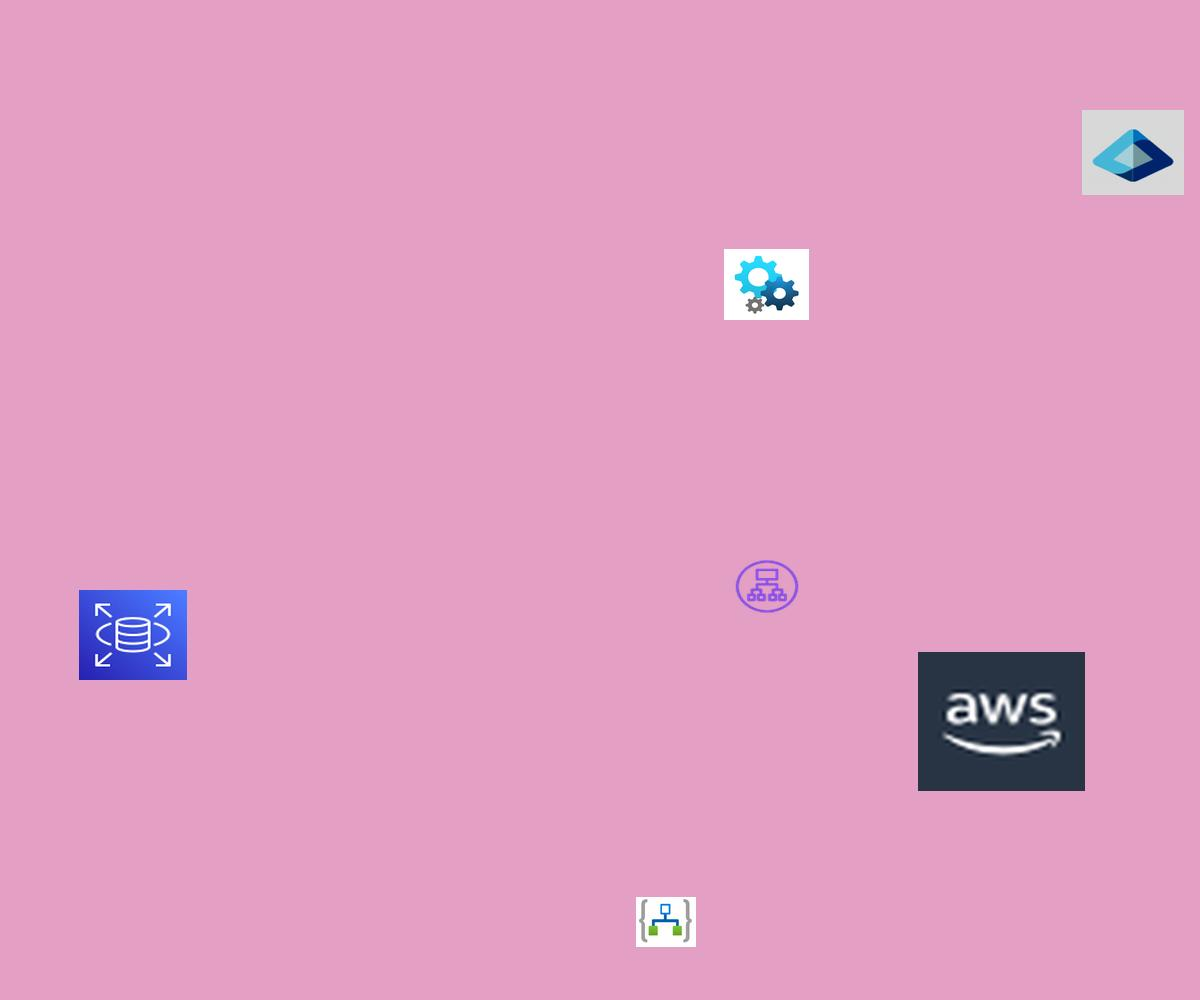AWS-Cloud-logo: (918, 652, 1085, 791)
AWS-RDS: (79, 590, 187, 680)
AWS-Res_Elastic-Load-Balancing_Application-Load-Balancer: (733, 558, 801, 615)
Azure_api: (724, 249, 809, 320)
Azure_integration-204-Logic-Apps: (636, 897, 696, 947)
Azure_microsoft_entra: (1082, 110, 1184, 195)
